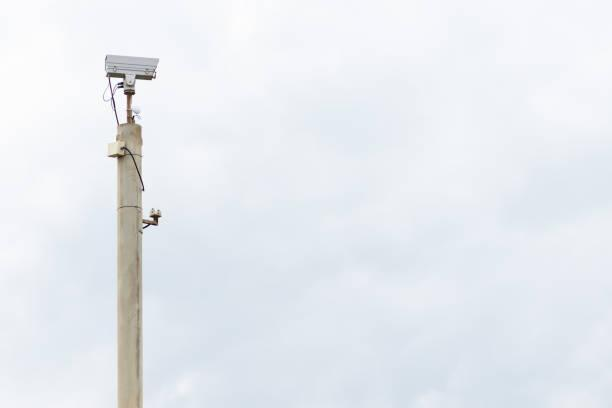camera: (78, 45, 185, 107)
